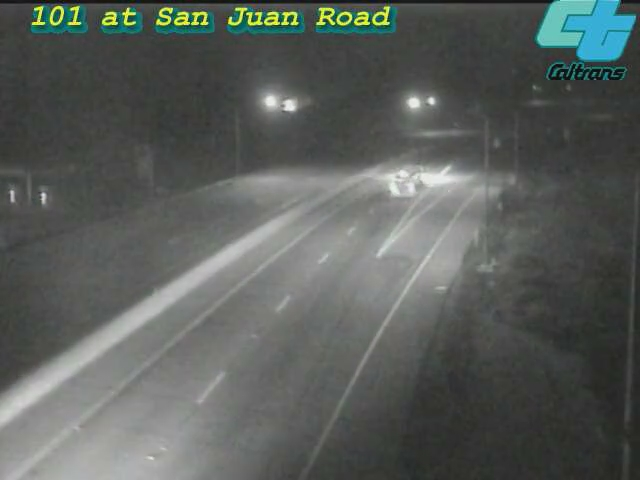vehicle: (371, 138, 451, 218)
